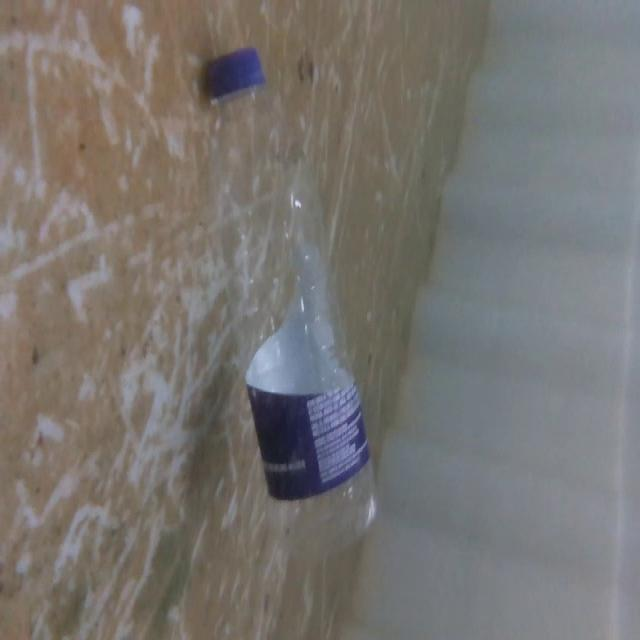plastic bottle: (188, 47, 392, 554)
